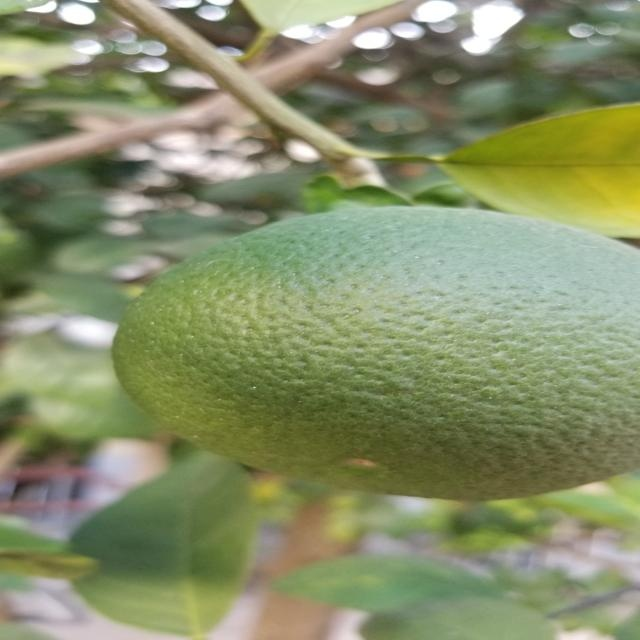agrume: (108, 198, 640, 500)
